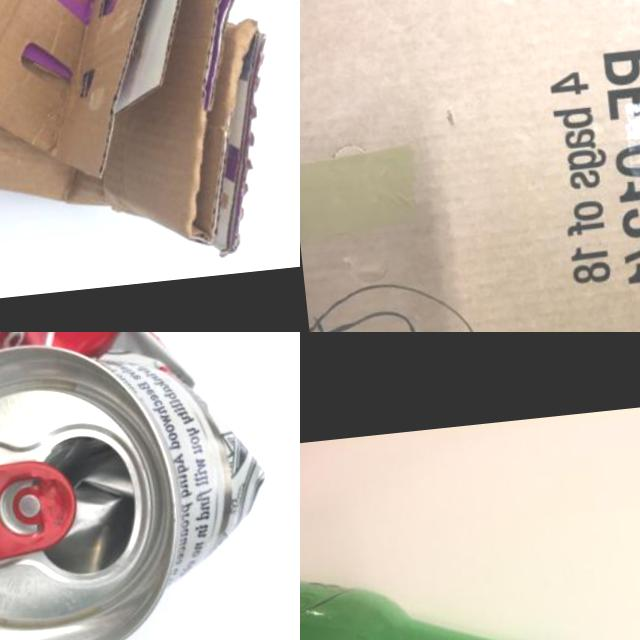aba de lata: (0, 452, 82, 569)
garrafa de vidro: (300, 543, 606, 640)
lata: (0, 332, 284, 640)
papelão: (300, 0, 640, 332), (0, 0, 289, 294)
